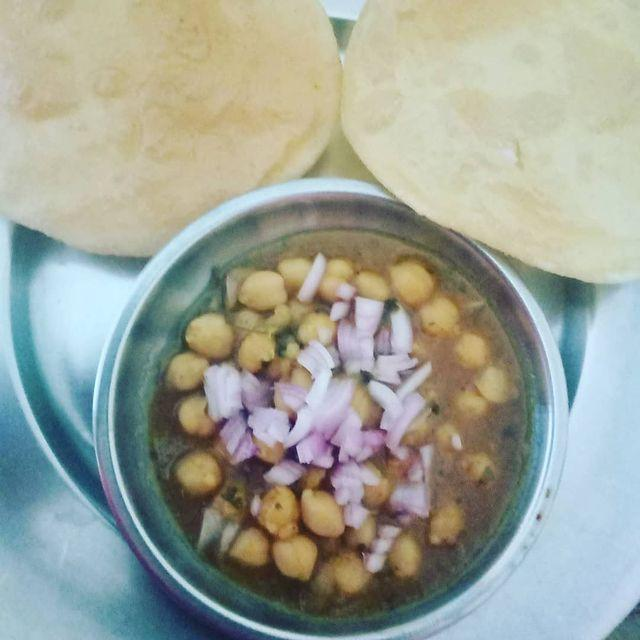Chole: (131, 211, 532, 605)
